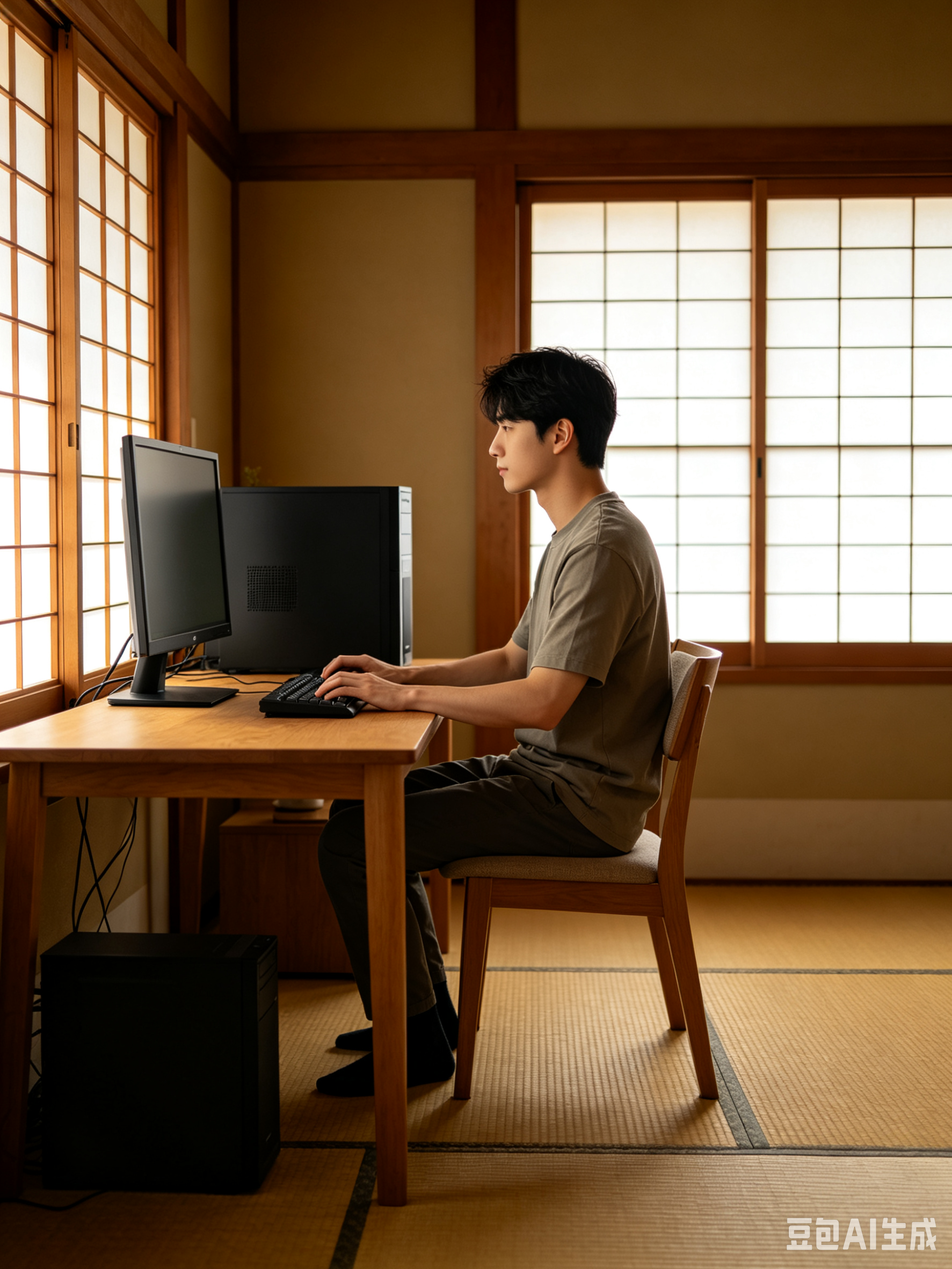sitting_good: (323, 353, 650, 1054)
